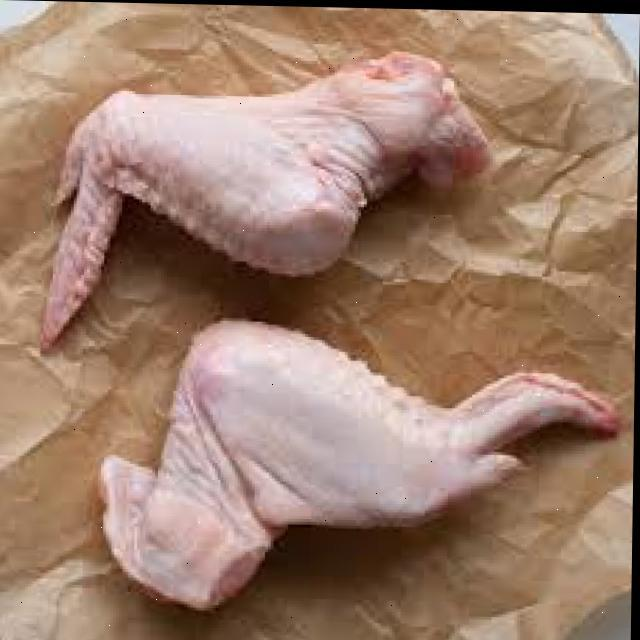wing: (72, 310, 625, 574), (8, 36, 470, 336)
